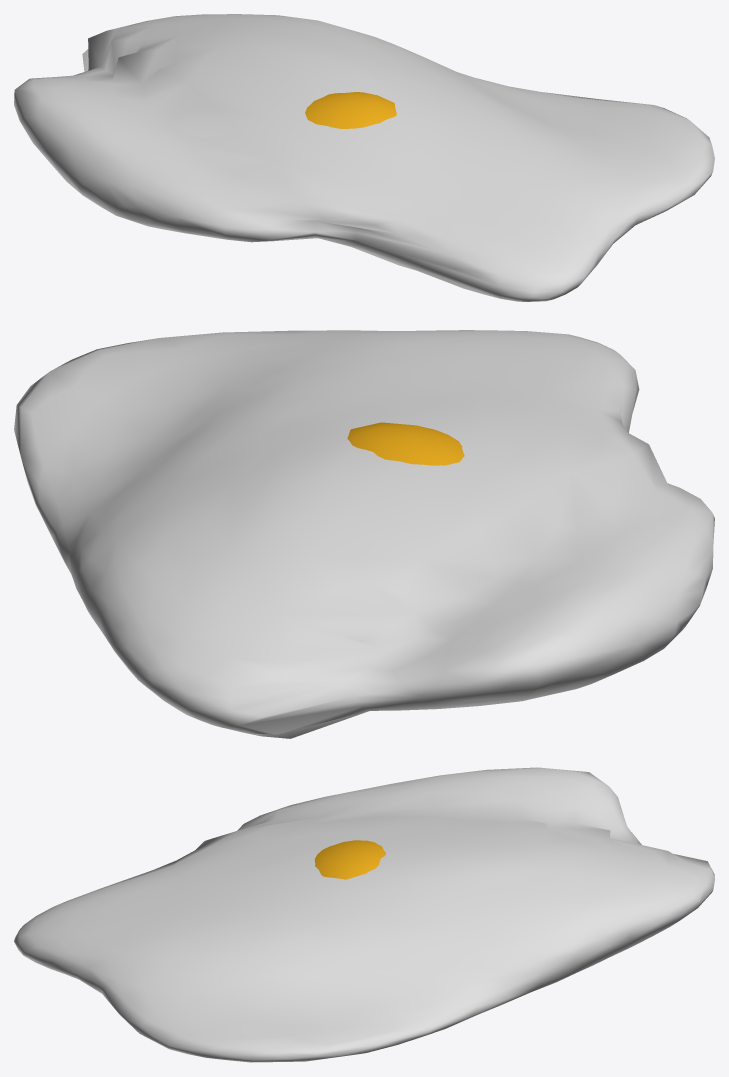
File: rawegg2.fbx
The picture shows the model from 3 angles, top to bottom: view 1: azimuth 30°, elevation 25°; view 2: azimuth 150°, elevation 25°; view 3: azimuth 270°, elevation 25°; orthographic projection. The views are drawn at different scales.
Parts seen in each view (by area): view 1: Eggwhite, Eggyellow; view 2: Eggwhite, Eggyellow; view 3: Eggwhite, Eggyellow.
Part boxes in pixels (<box>): Eggwhite: <box>14,14,714,301</box>; Eggyellow: <box>305,92,396,128</box>; Eggwhite: <box>14,330,714,738</box>; Eggyellow: <box>347,422,464,465</box>; Eggwhite: <box>14,767,714,1062</box>; Eggyellow: <box>314,840,386,879</box>.
Size of the model in its own units: 39.65 by 8.28 by 45.83.
